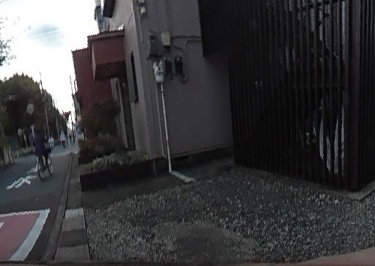person: (29, 122, 51, 174)
